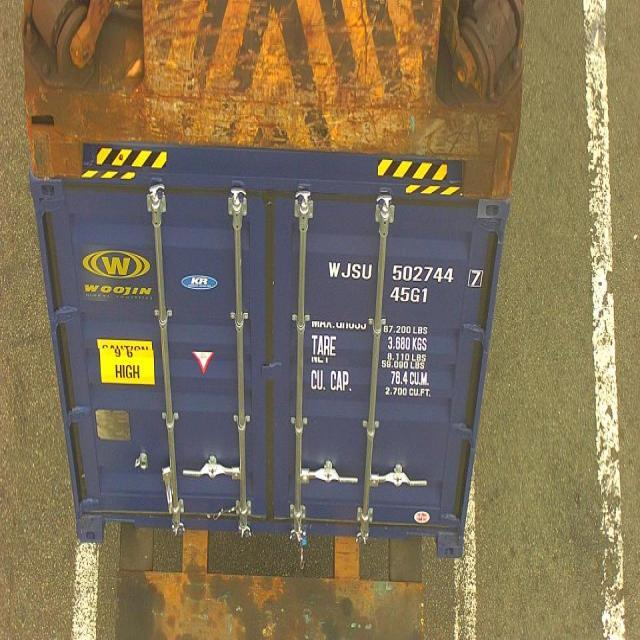ISO: (390, 284, 430, 304)
container_number: (327, 256, 483, 286)
